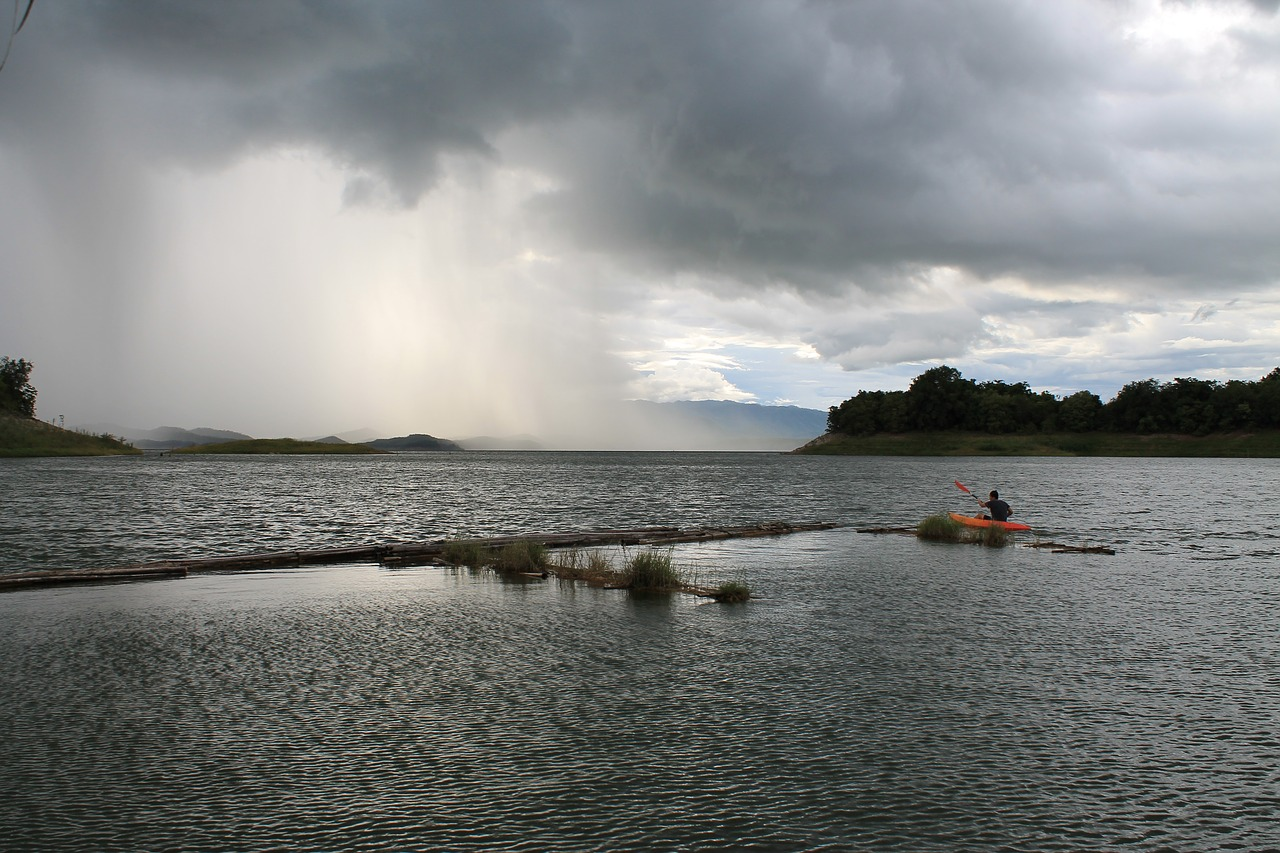kayak: (946, 508, 1031, 534)
